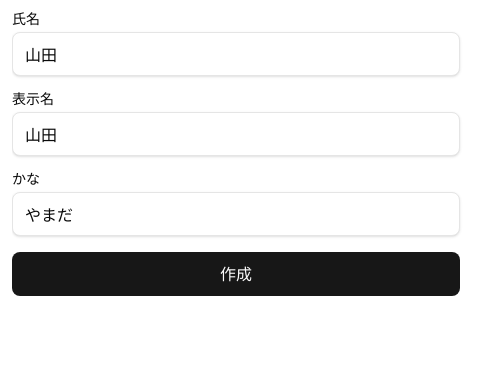
Scenario: WorkerForm › アクションが BAD_USER_INPUT を返すと表示する
Click the button "作成" at (236, 274), box [12,252,460,296]
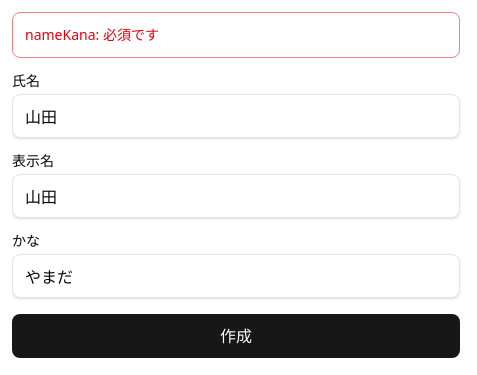
Expected: the message reads "nameKana: 必須です", [25,25,159,44]
